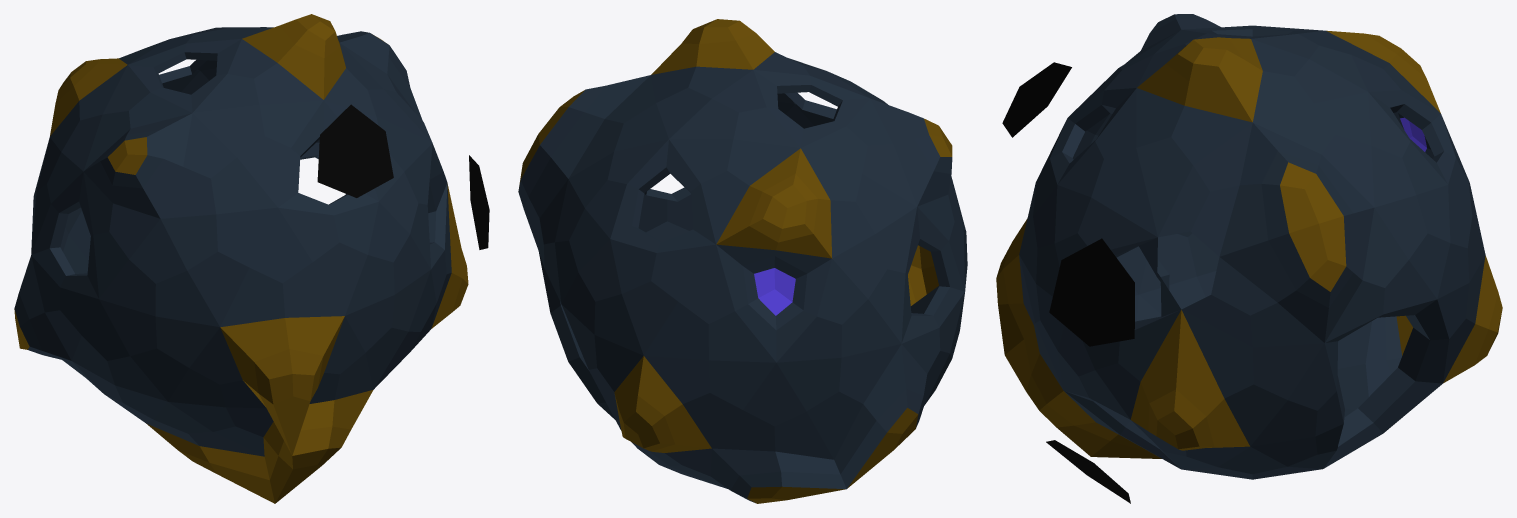
Rendered from Planet3Dest3.glb.
3 renders of one model, left to right at view 1: azimuth 30°, elevation 25°; view 2: azimuth 150°, elevation 25°; view 3: azimuth 270°, elevation 25°, orthographic. The views are drawn at different scales.
Visible parts, largest first — view 1: Icosphere.067; view 2: Icosphere.067; view 3: Icosphere.067.
Part boxes in pixels (<box>): Icosphere.067: <box>14,14,489,503</box>; Icosphere.067: <box>518,19,967,503</box>; Icosphere.067: <box>996,14,1502,503</box>.
Bounding box in the file's own units: 1.85 × 1.94 × 1.93.
